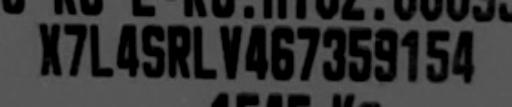letter: (421, 27, 453, 84), (450, 27, 480, 84), (60, 20, 88, 79), (34, 22, 64, 77), (189, 25, 219, 80), (240, 23, 268, 80), (320, 25, 348, 82), (372, 25, 400, 82), (86, 22, 112, 79), (114, 22, 140, 79), (218, 23, 244, 80), (140, 23, 166, 80), (296, 25, 322, 82), (348, 27, 374, 82), (166, 22, 190, 79), (270, 25, 294, 80), (398, 25, 420, 84)
